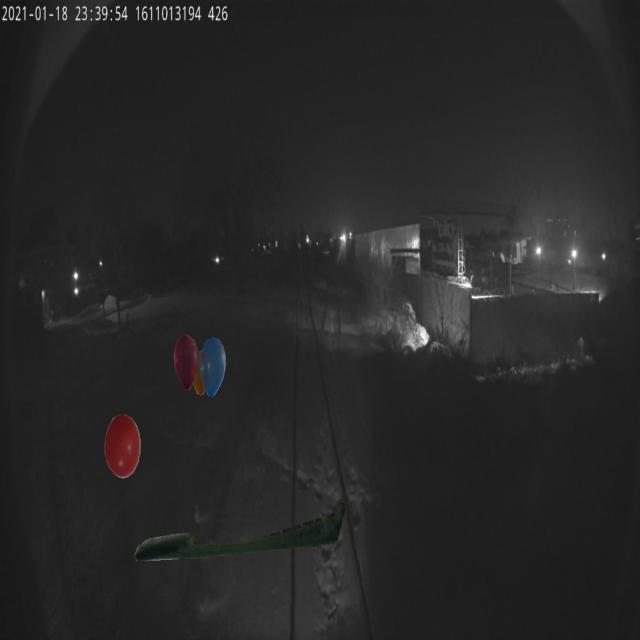balloon: (174, 333, 226, 398), (104, 414, 141, 478)
floating object: (133, 497, 353, 561)
